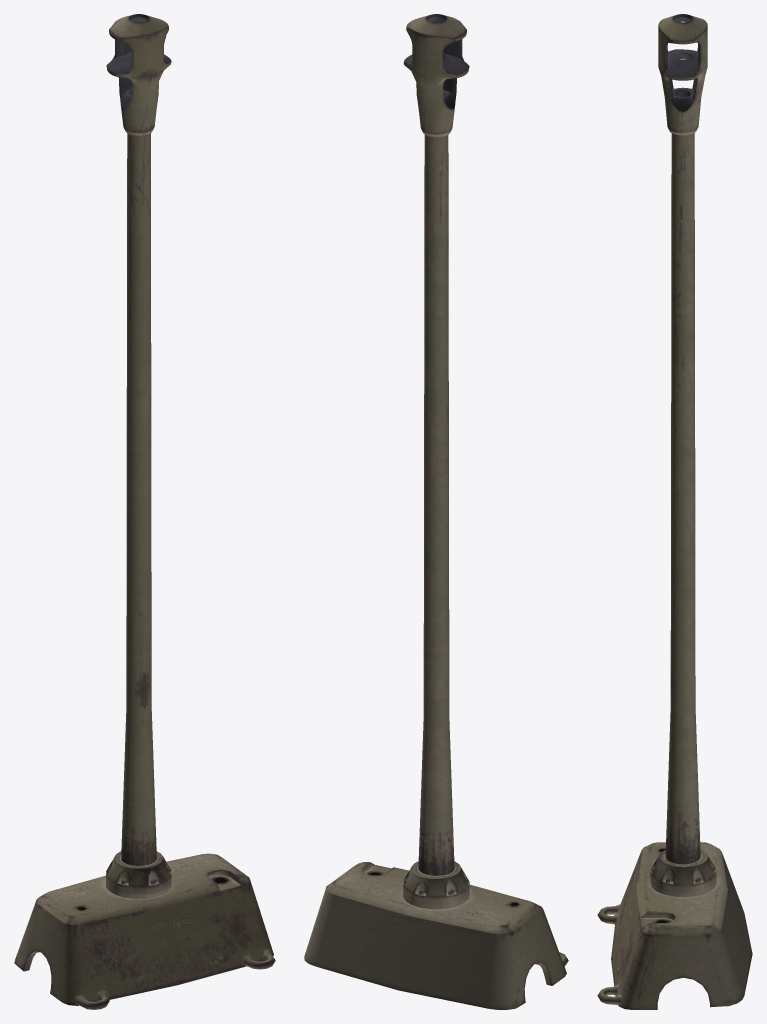
Rendered from Gun_03.glb.
3 views of the same model, side by side, from view 1: azimuth 30°, elevation 25°; view 2: azimuth 150°, elevation 25°; view 3: azimuth 270°, elevation 25° (orthographic).
Parts seen in each view (by area): view 1: set_0_group_0; view 2: set_0_group_0; view 3: set_0_group_0.
Boxes of the visible parts, bbox=[...] form: set_0_group_0: bbox=[14, 14, 275, 1009]; set_0_group_0: bbox=[304, 14, 568, 1009]; set_0_group_0: bbox=[597, 14, 752, 1009].
Bounding box in the file's own units: 1.34 × 5.77 × 0.8638.
Materials: 1 (1 with a texture image).
